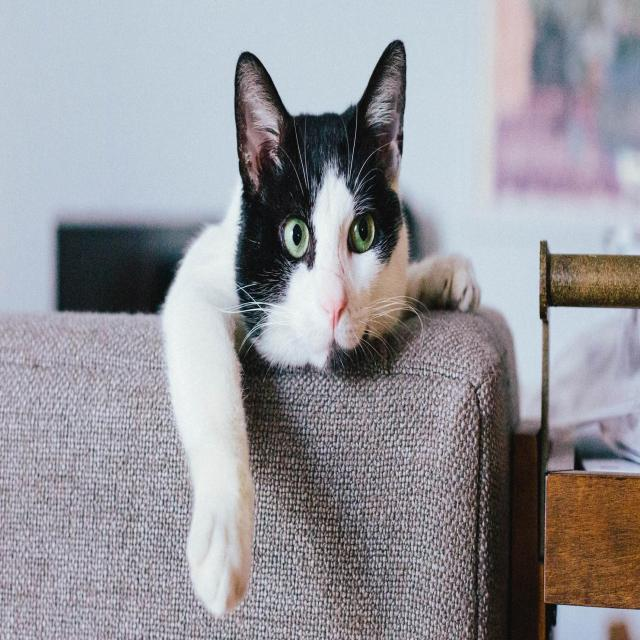Cat: (228, 32, 422, 382)
